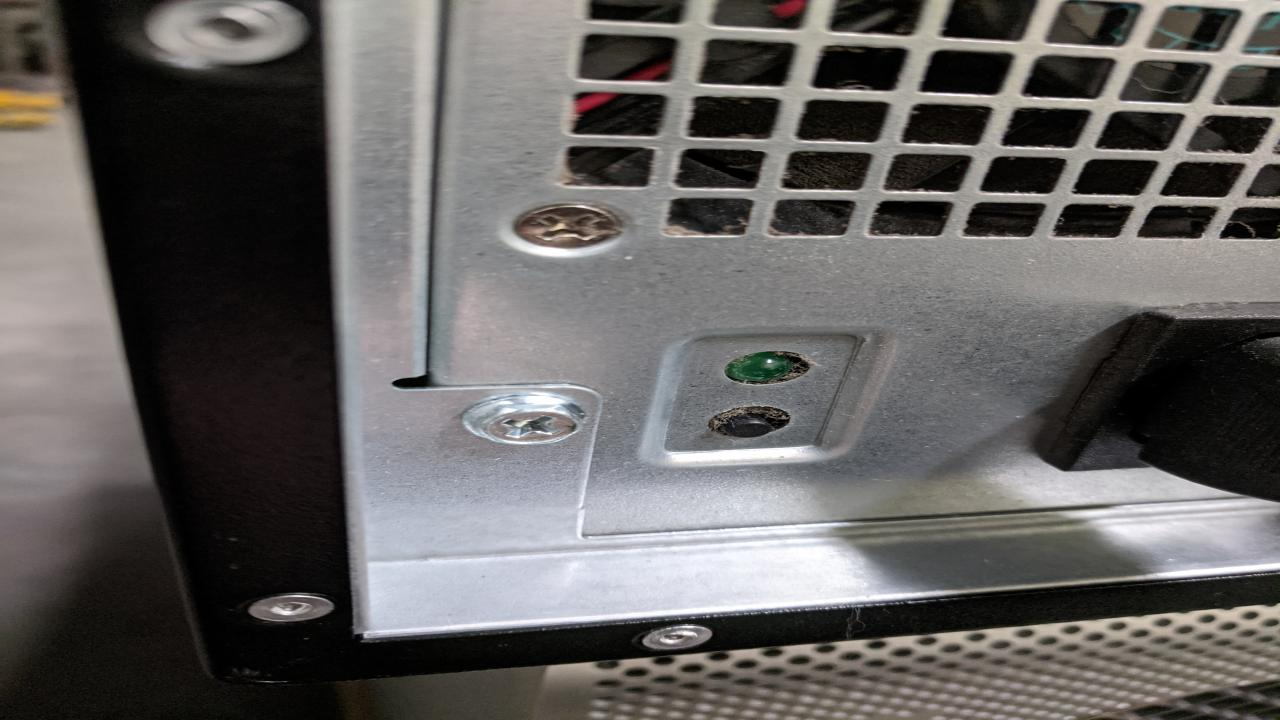CRS: (462, 400, 586, 446), (513, 199, 622, 249)
